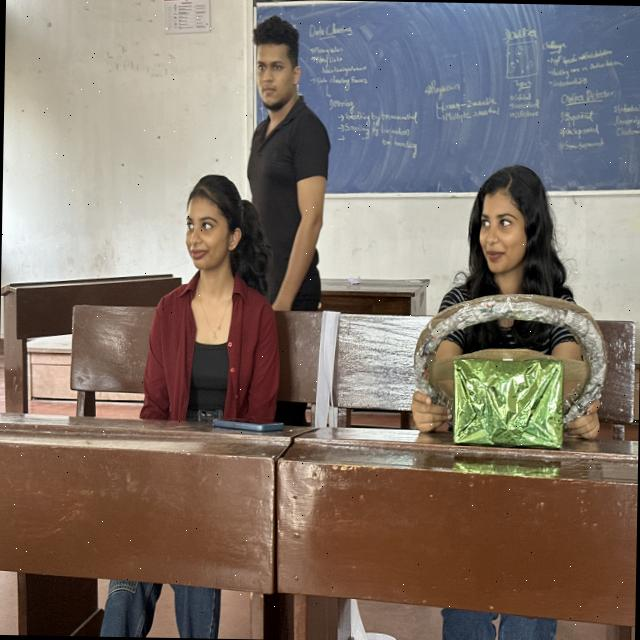Helmet: (134, 243, 332, 482), (417, 268, 619, 472)
